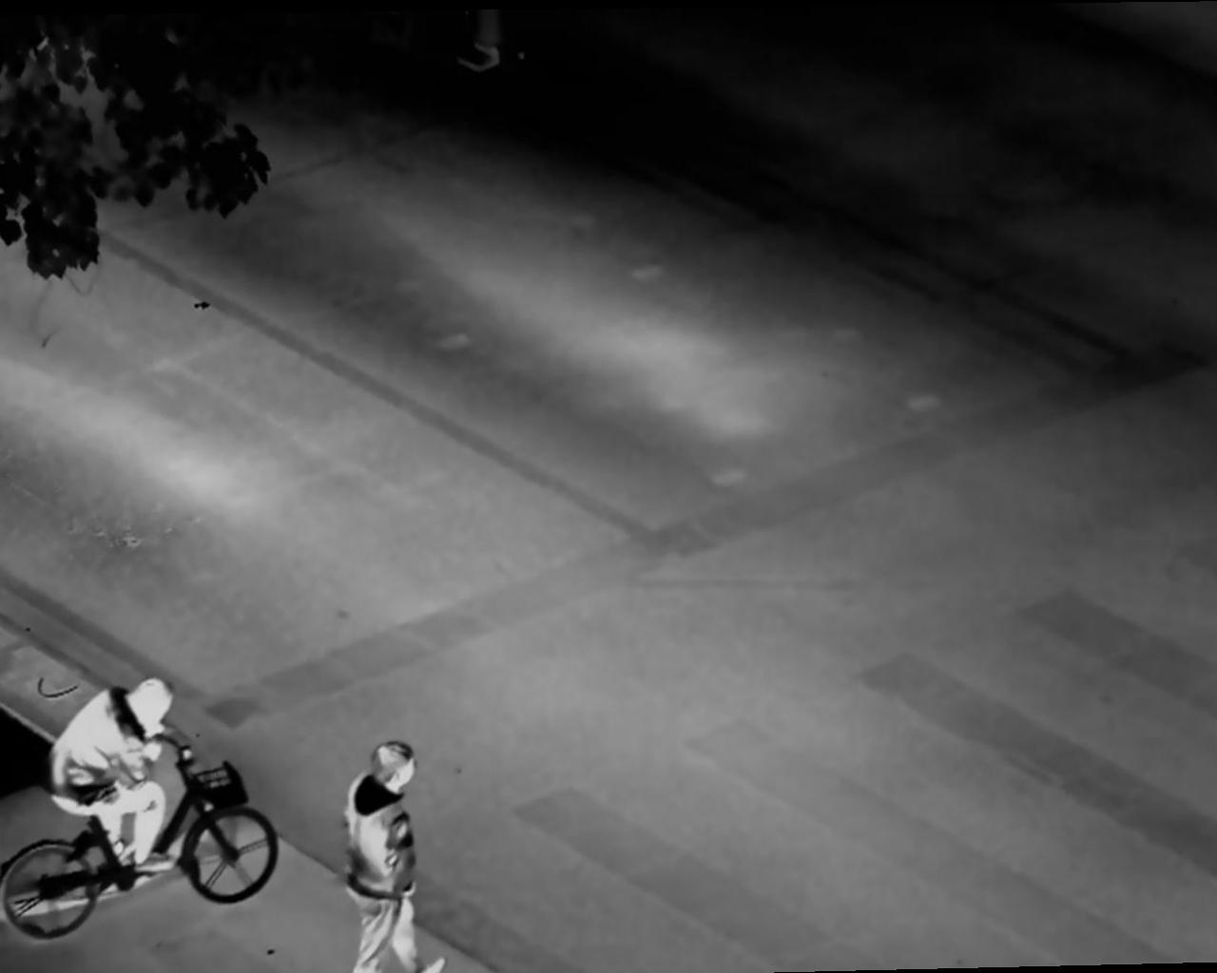person: (35, 674, 192, 883), (337, 737, 450, 973)
